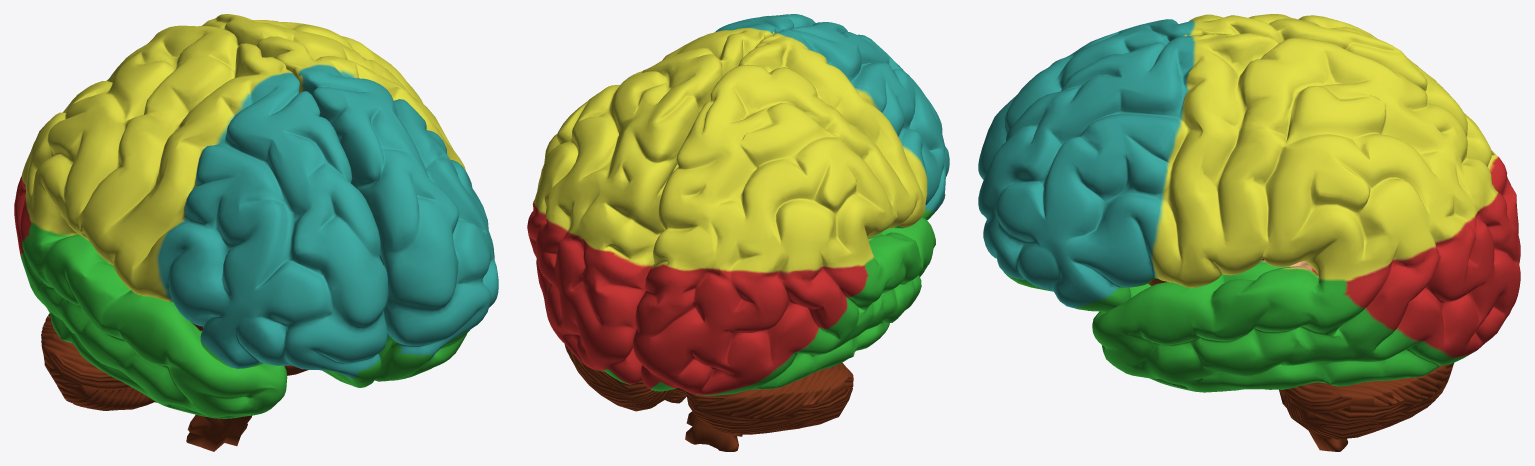
The model's file is brain.gltf.
3 views of the same model, side by side, from view 1: azimuth 30°, elevation 25°; view 2: azimuth 150°, elevation 25°; view 3: azimuth 270°, elevation 25° (orthographic). The views are drawn at different scales.
Parts seen in each view (by area): view 1: Brain_Part_06, Brain_Part_04, Brain_Part_02, Brain_Part_05; view 2: Brain_Part_06, Brain_Part_04, Brain_Part_02, Brain_Part_05; view 3: Brain_Part_04, Brain_Part_06, Brain_Part_02, Brain_Part_05.
Boxes of the visible parts, box(x1,y1,x2,y2) form: Brain_Part_06: box(14, 25, 387, 418); Brain_Part_04: box(202, 14, 498, 381); Brain_Part_02: box(41, 313, 156, 410); Brain_Part_05: box(186, 322, 251, 451); Brain_Part_06: box(633, 22, 949, 395); Brain_Part_04: box(527, 14, 815, 384); Brain_Part_02: box(564, 344, 853, 434); Brain_Part_05: box(685, 411, 742, 451); Brain_Part_04: box(978, 33, 1520, 392); Brain_Part_06: box(978, 14, 1520, 263); Brain_Part_02: box(1281, 363, 1453, 439); Brain_Part_05: box(1148, 258, 1347, 451).
Bounding box in the file's own units: 1.06 × 1.12 × 1.32.
Materials: 1 (1 with a texture image).
